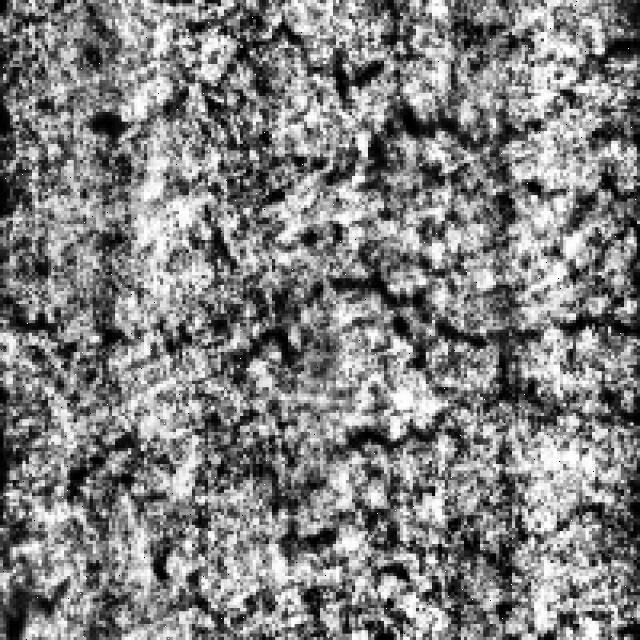Pitted_Surface: (96, 16, 640, 355), (67, 387, 640, 637)
